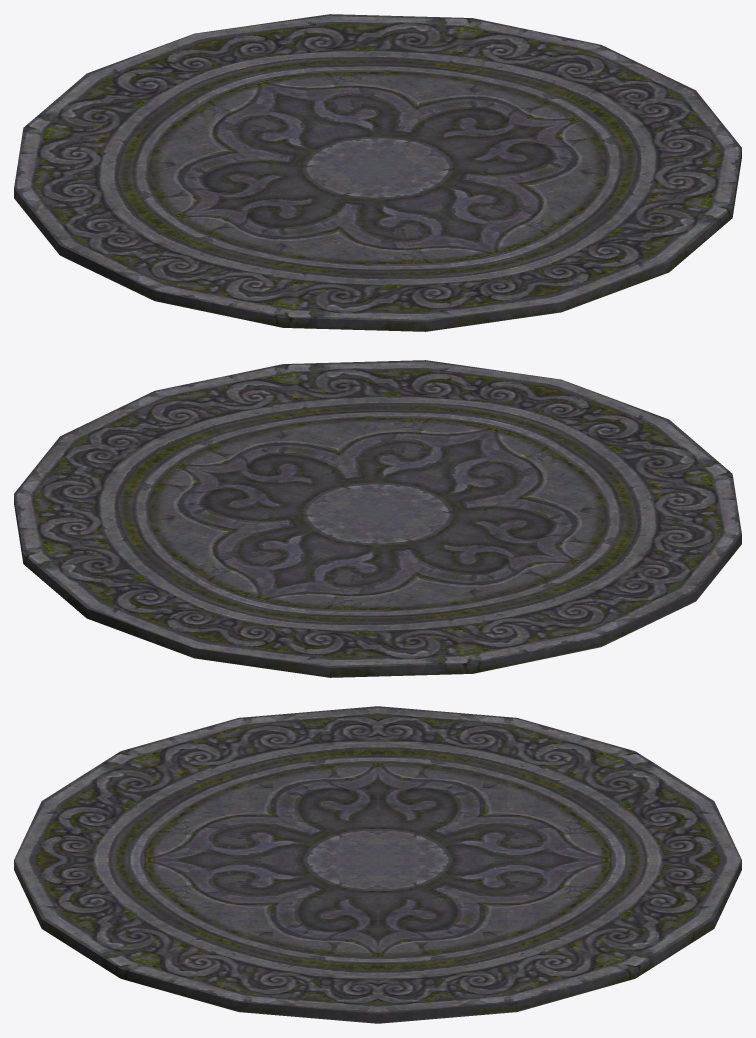
File: yw_langhuanfudi_yuantai01.FBX
The picture shows the model from 3 angles, top to bottom: view 1: azimuth 30°, elevation 25°; view 2: azimuth 150°, elevation 25°; view 3: azimuth 270°, elevation 25°; orthographic projection.
Visible parts, largest first — view 1: yw_langhuanfudi_yuantai01; view 2: yw_langhuanfudi_yuantai01; view 3: yw_langhuanfudi_yuantai01.
Boxes of the visible parts, <box> form: yw_langhuanfudi_yuantai01: <box>14,14,741,331</box>; yw_langhuanfudi_yuantai01: <box>14,360,741,677</box>; yw_langhuanfudi_yuantai01: <box>14,706,741,1023</box>.
Size of the model in its own units: 1160 by 17.55 by 1160.
